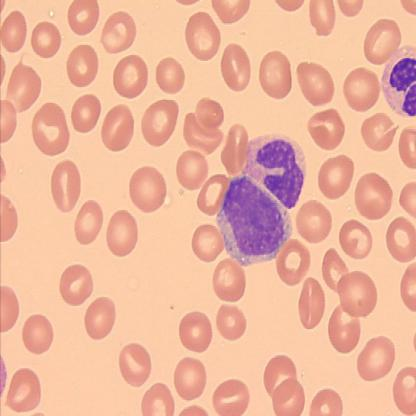Myelocyte: (216, 175, 292, 263), (248, 134, 313, 209)
